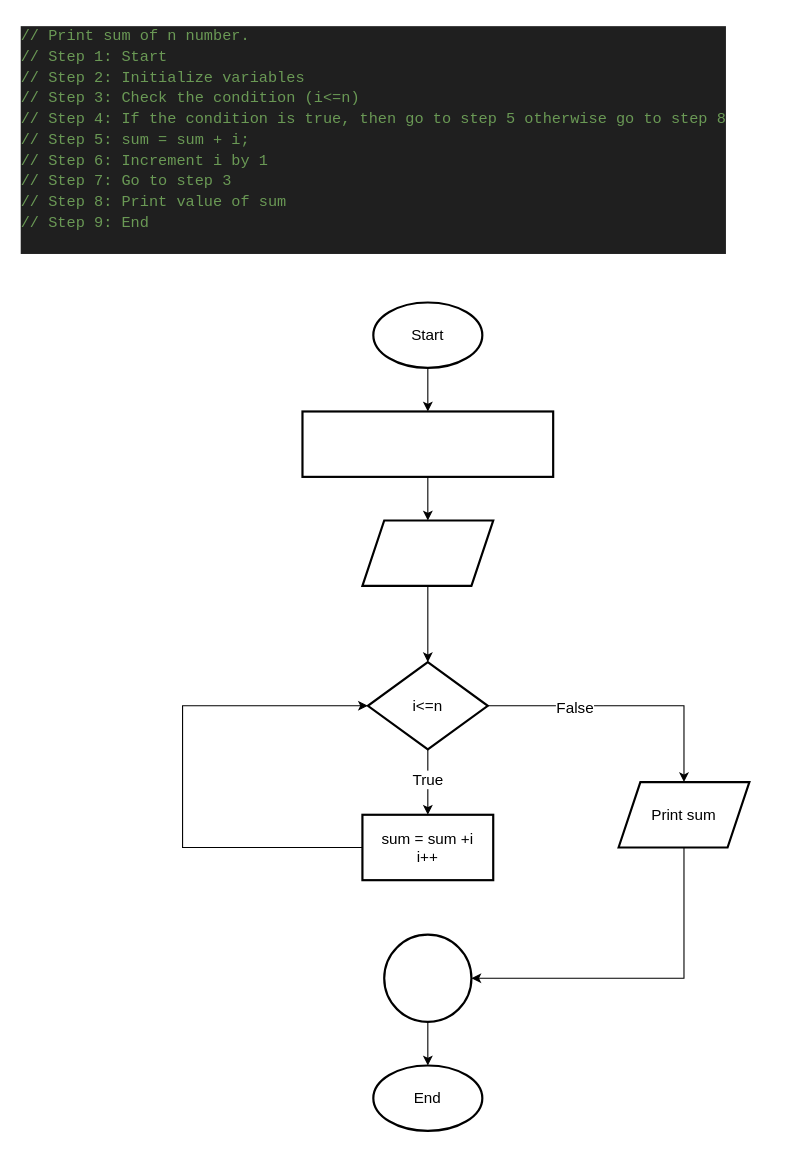
Some shapes in this 811 by 1150 pixel diagram are drawn without their labels. Each missing label, with the centre of its shape:
"Enter n" belongs at pixel 427 552.
"int n, sum = 0, i=1" belongs at pixel 427 443.
